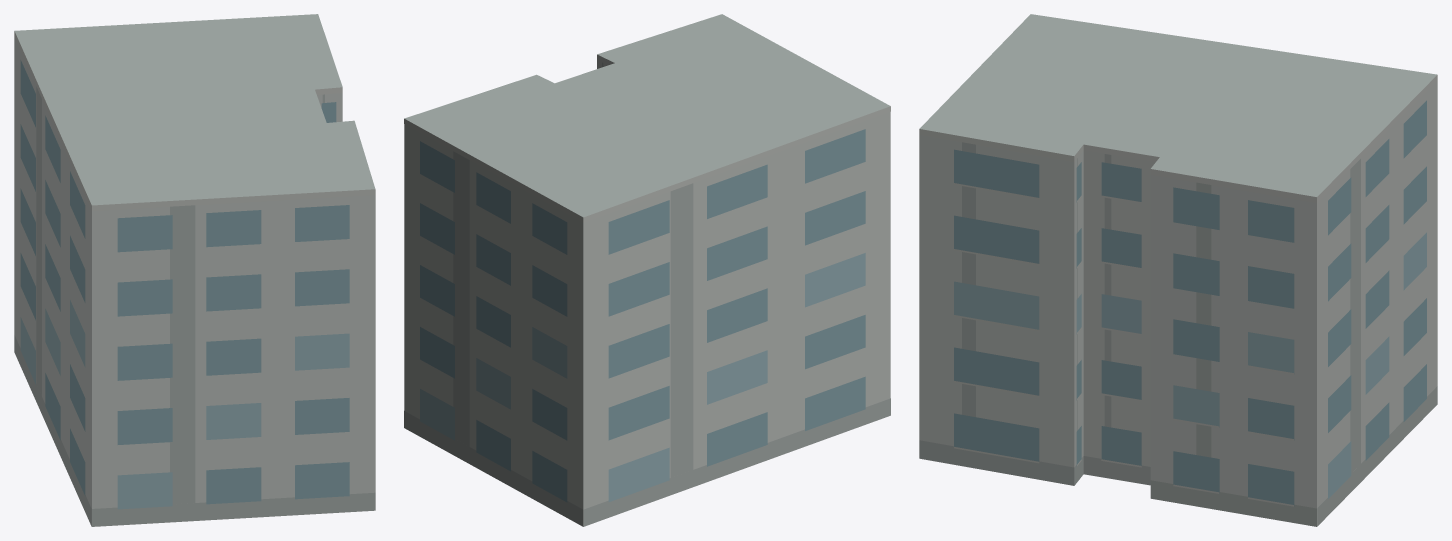
Rendered from survey-upis-32920641.glb.
3 views of the same model, side by side, from view 1: azimuth 30°, elevation 25°; view 2: azimuth 150°, elevation 25°; view 3: azimuth 270°, elevation 25° (orthographic). The views are drawn at different scales.
Visible parts, largest first — view 1: survey-upis-32920641.tmp; view 2: survey-upis-32920641.tmp; view 3: survey-upis-32920641.tmp.
Part boxes in pixels (x1,y1,x2,y2): survey-upis-32920641.tmp: (14,14,375,526); survey-upis-32920641.tmp: (404,14,890,526); survey-upis-32920641.tmp: (919,14,1437,526).
Bounding box in the file's own units: 16.39 × 13.75 × 19.6.
